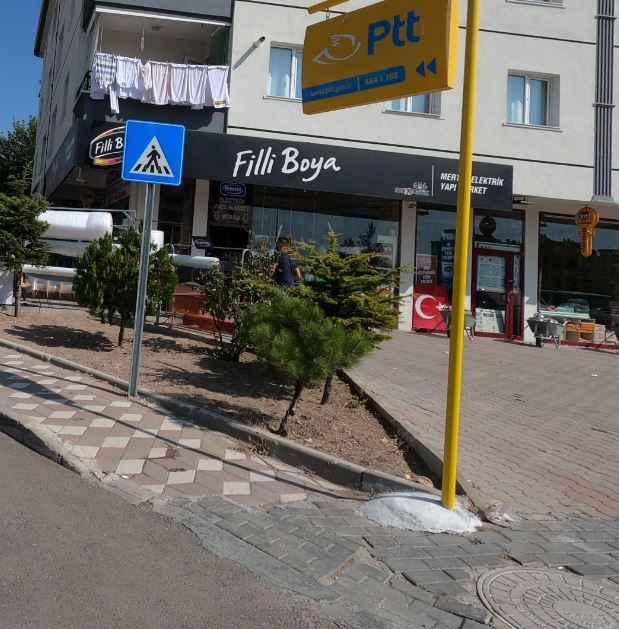Yaya Gecidi: (119, 122, 183, 180)
